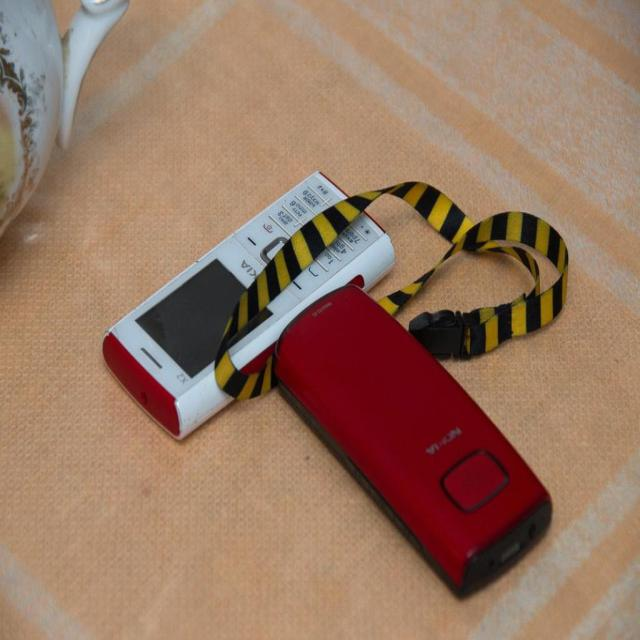Phone: (278, 282, 553, 602), (103, 166, 398, 441)
